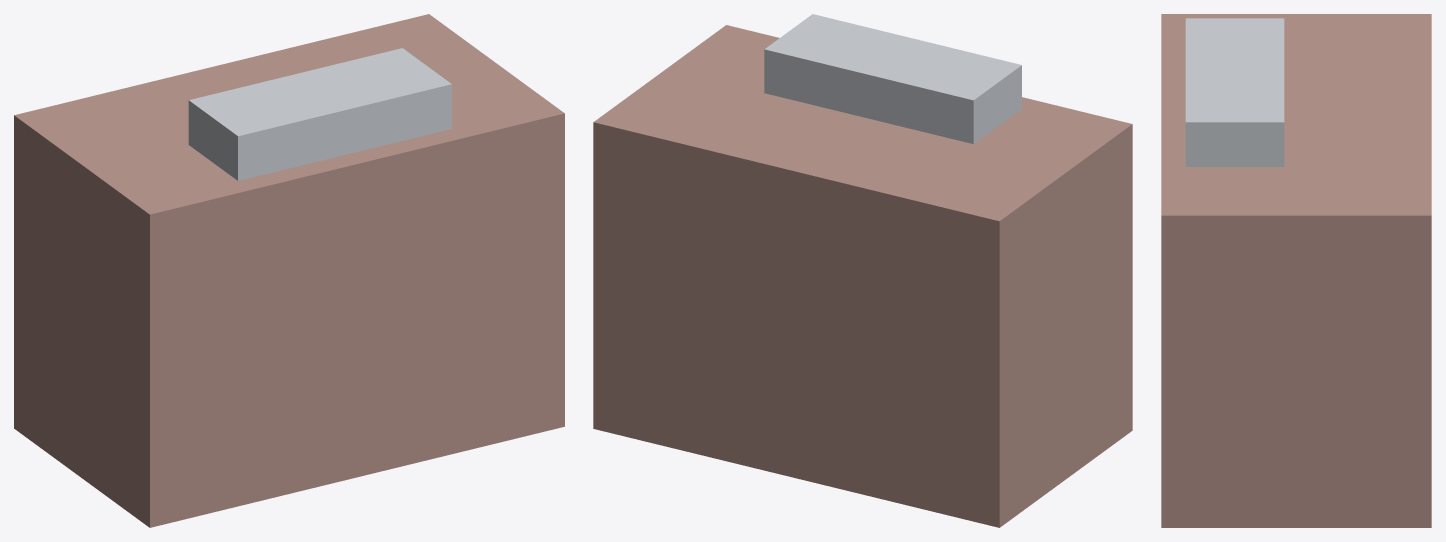
The model's file is prop.glb.
3 renders of one model, left to right at view 1: azimuth 30°, elevation 25°; view 2: azimuth 150°, elevation 25°; view 3: azimuth 270°, elevation 25°, orthographic. The views are drawn at different scales.
Parts seen in each view (by area): view 1: Cloth, Metal; view 2: Cloth, Metal; view 3: Cloth, Metal.
Boxes of the visible parts, x1=… form: Cloth: x1=14, y1=14, x2=564, y2=527; Metal: x1=188, y1=48, x2=451, y2=180; Cloth: x1=593, y1=25, x2=1132, y2=527; Metal: x1=764, y1=14, x2=1021, y2=143; Cloth: x1=1161, y1=14, x2=1431, y2=527; Metal: x1=1185, y1=18, x2=1284, y2=166.
Bounding box in the file's own units: 0.3881 × 0.32 × 0.22.
